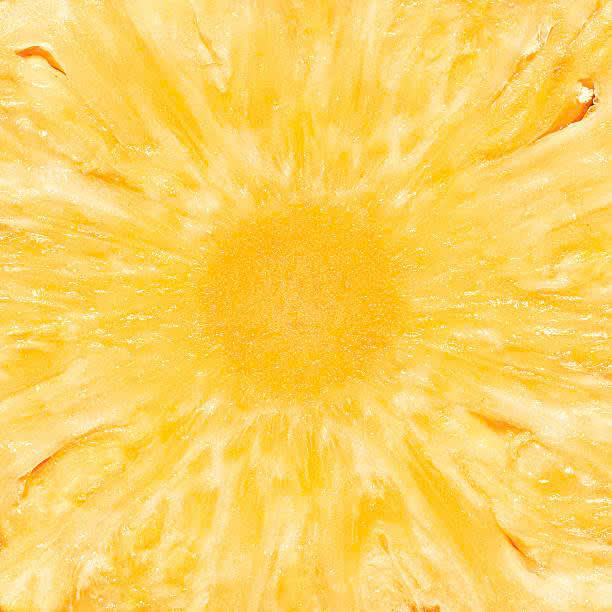pineapple: (13, 4, 608, 599)
